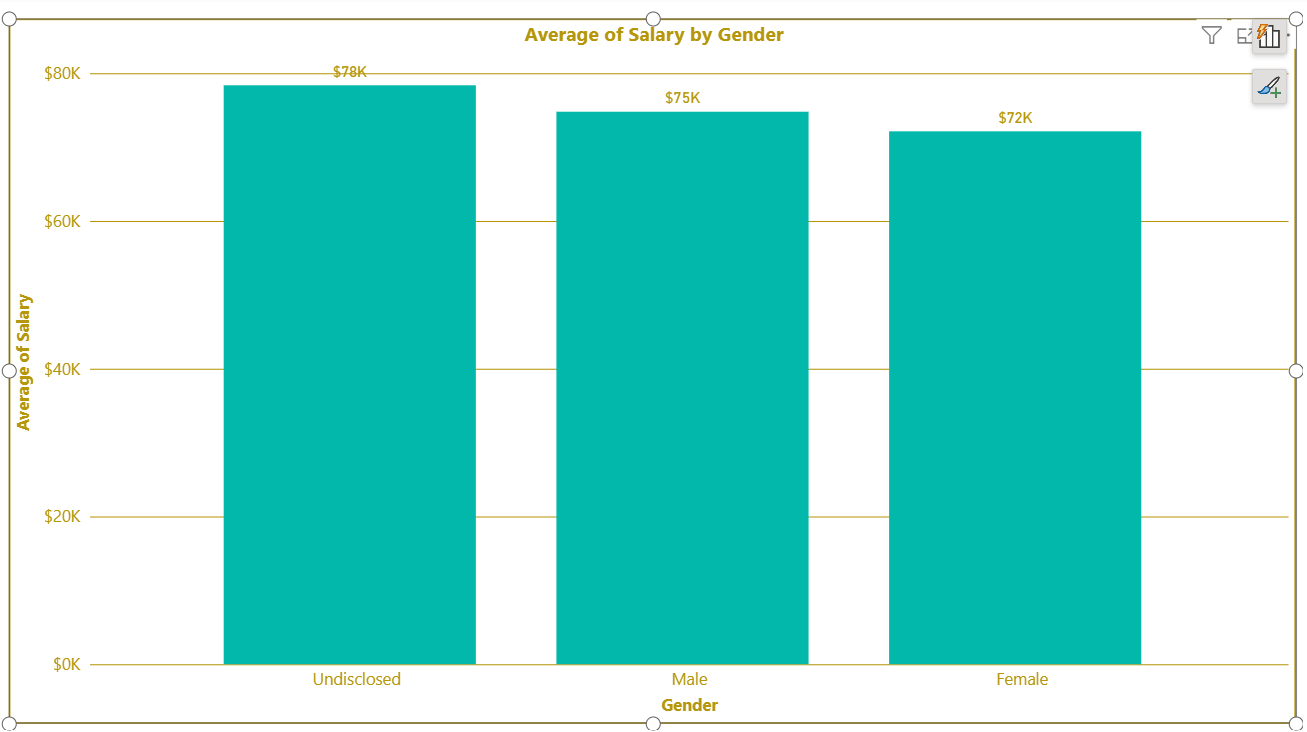

The page's visual inventory and layout, read from the dashboard file:
{"tool":"powerbi","page":{"name":"Average Salary by Gender","canvas":[1280,720],"ordinal":4},"visuals":[{"type":"clusteredColumnChart","fields":{"Category":["Palmoria Group emp-data.Gender"],"Y":["Avg(Palmoria Group emp-data.Salary)"]},"box":[10.1,0,1269.6,719.9],"z":0}]}

Visuals, with their boxes in screenshot pixels (x1, y1, x2, y2), scaled from the page's 1280x720 canvas onto the 1307x732 screenshot:
clusteredColumnChart - Palmoria Group emp-data.Gender x Avg(Palmoria Group emp-data.Salary): (x1=10, y1=0, x2=1306, y2=731)
